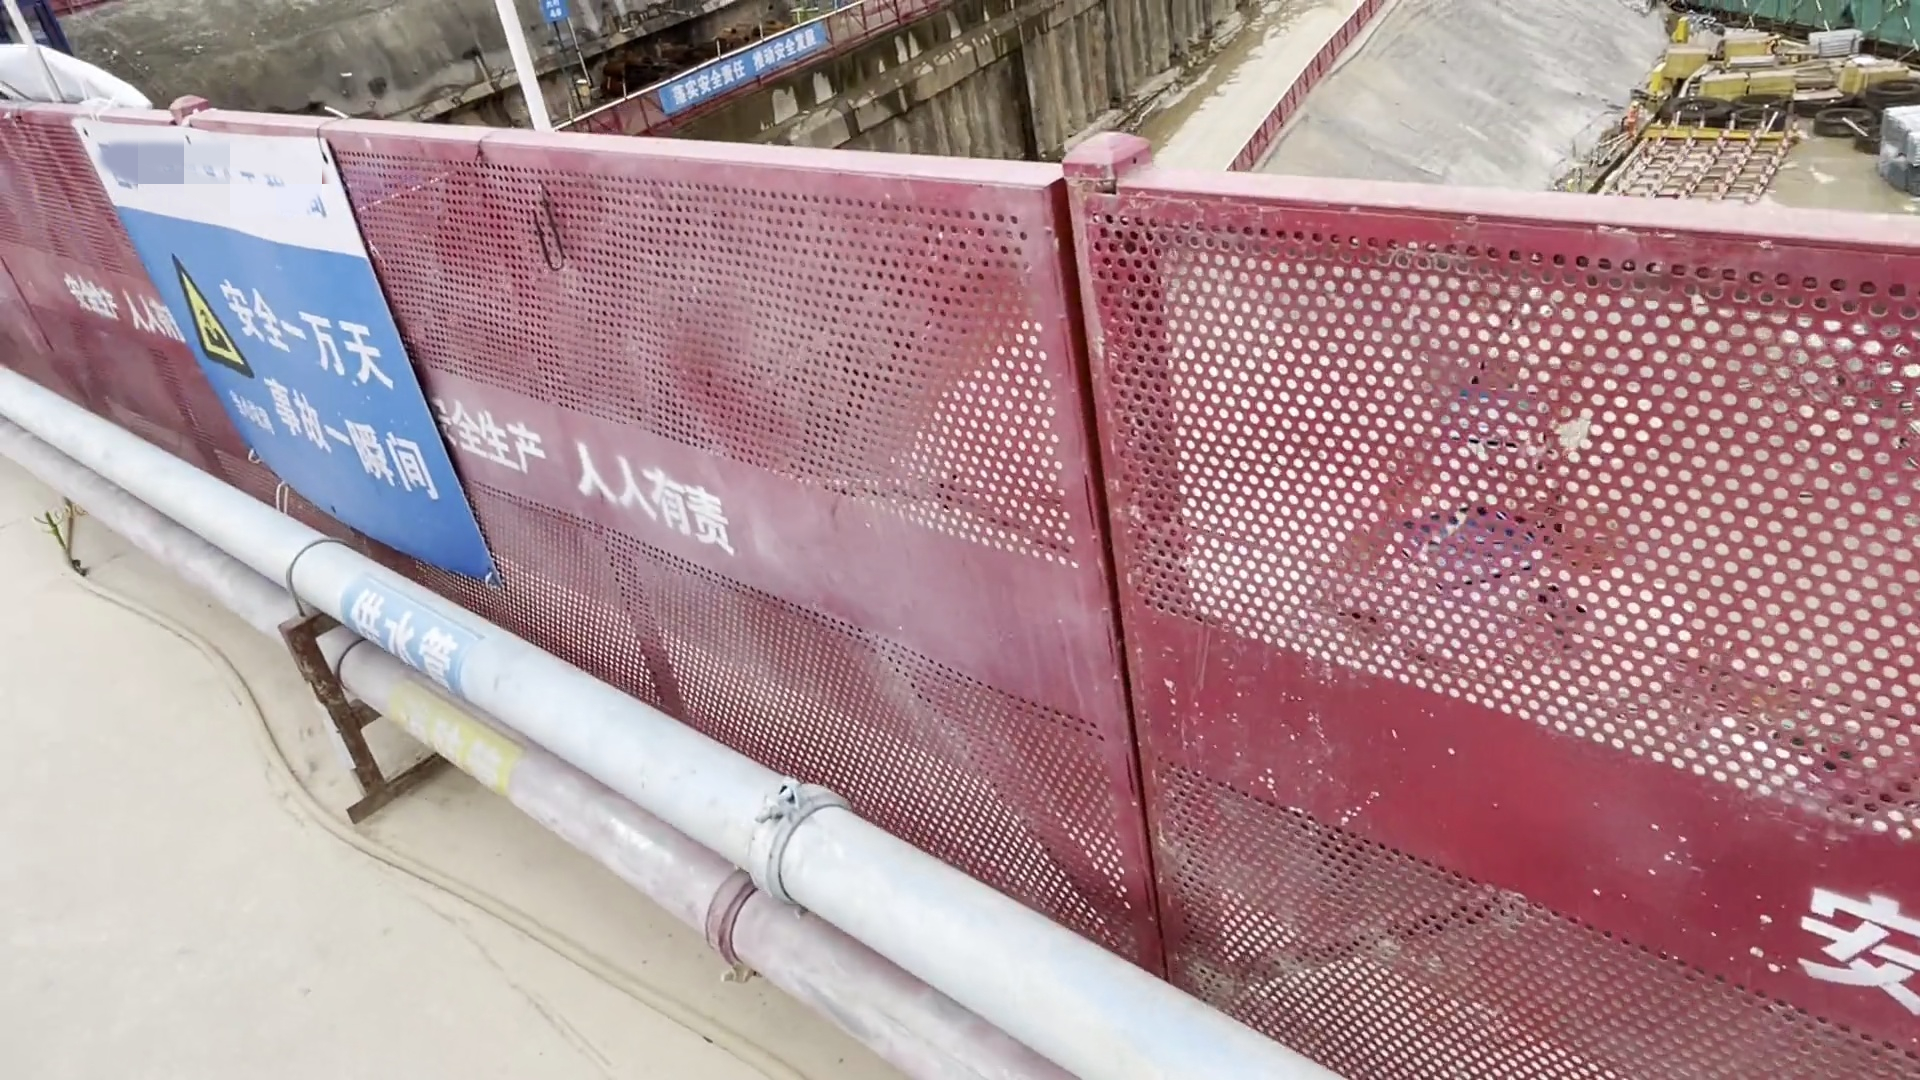fence: (1025, 100, 1916, 1073)
slogan: (70, 119, 522, 597), (651, 12, 849, 127)
